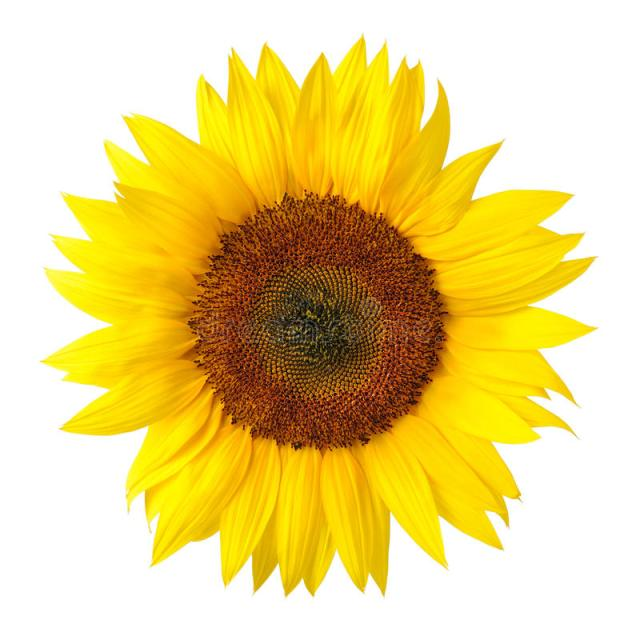sunflower: (33, 34, 597, 594)
